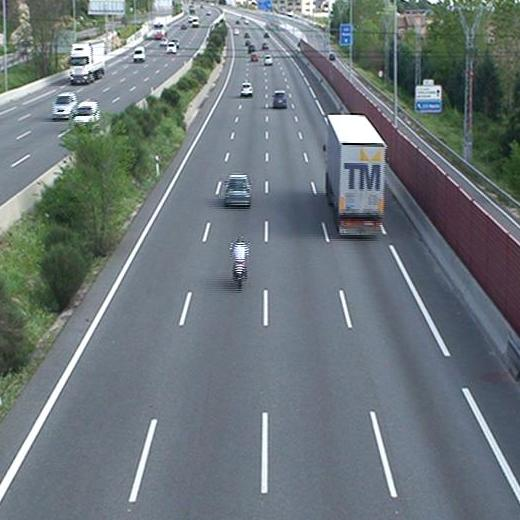car: (222, 173, 252, 210), (272, 90, 289, 110), (239, 81, 254, 98), (263, 54, 273, 66), (251, 53, 259, 61)
motorcycle: (229, 237, 250, 289)
truck: (322, 115, 385, 238)
